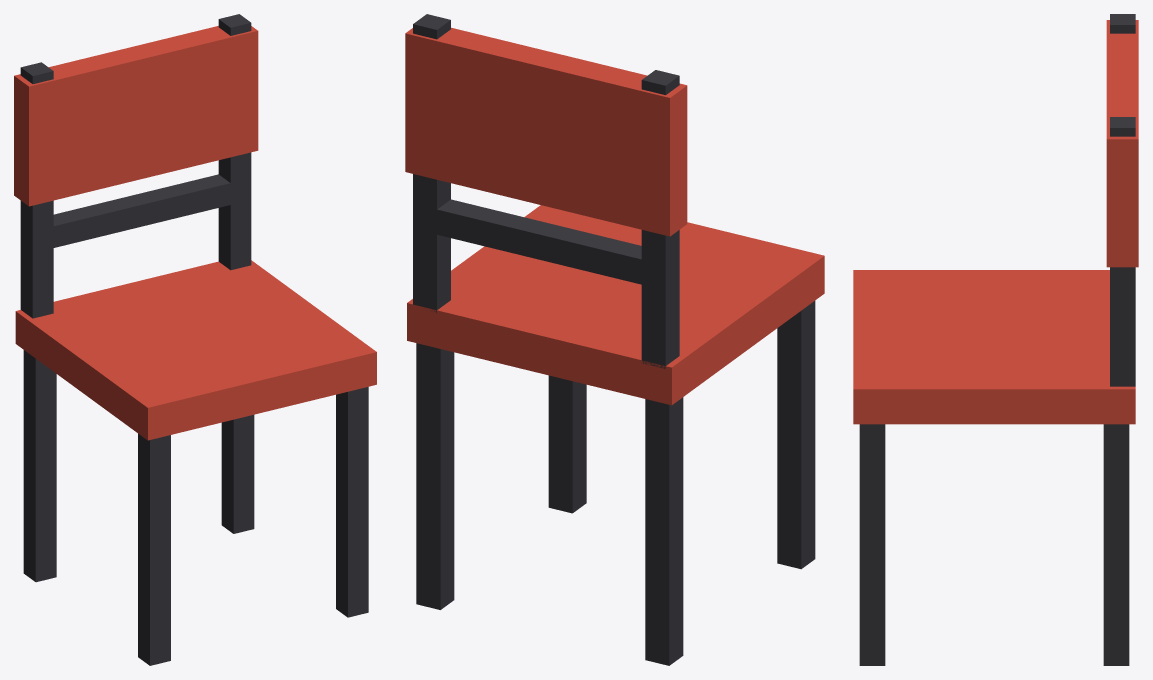
File: chair.glb
3 renders of one model, left to right at view 1: azimuth 30°, elevation 25°; view 2: azimuth 150°, elevation 25°; view 3: azimuth 270°, elevation 25°, orthographic. The views are drawn at different scales.
Visible parts, largest first — view 1: chair; view 2: chair; view 3: chair.
Boxes of the visible parts, x1,y1,x2,y2 form: chair: (14,14,376,665); chair: (405,14,824,665); chair: (853,14,1138,665).
Bounding box in the file's own units: 0.44 × 0.925 × 0.445.
